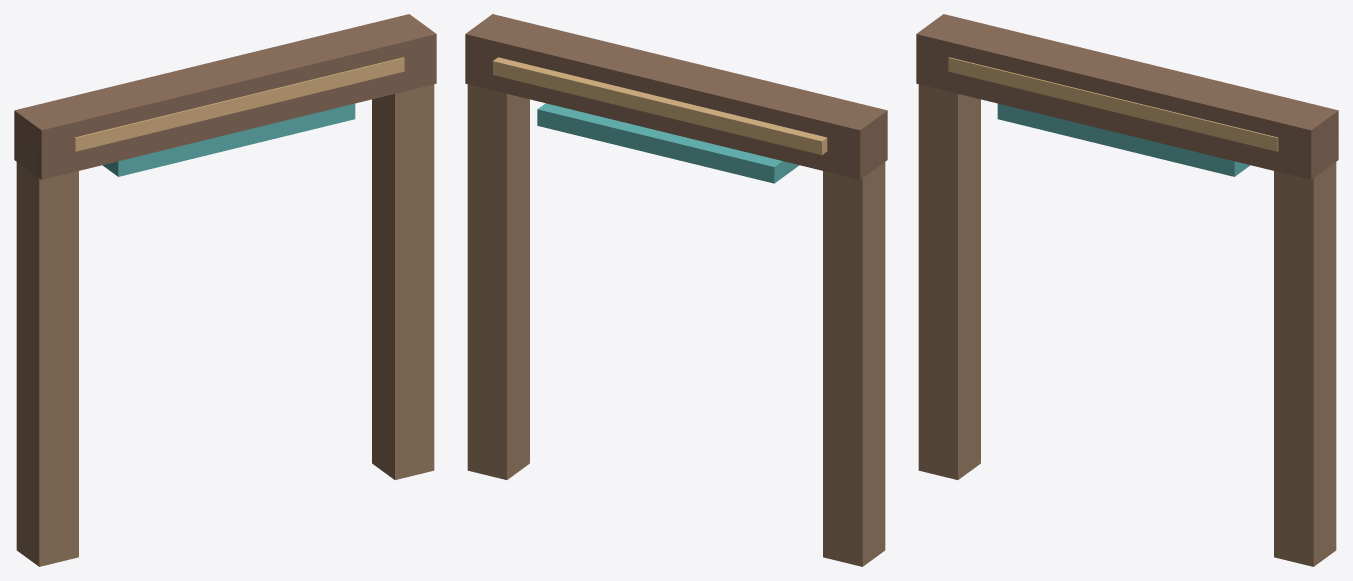
Rendered from display-bay-centered.glb.
3 views of the same model, side by side, from view 1: azimuth 30°, elevation 25°; view 2: azimuth 150°, elevation 25°; view 3: azimuth 330°, elevation 25° (orthographic).
Visible parts, largest first — view 1: world; view 2: world; view 3: world.
Part boxes in pixels (box(x1,y1,x2,y2)): world: box(14, 14, 436, 566); world: box(465, 14, 887, 566); world: box(916, 14, 1338, 566).
Size of the model in its own units: 3 by 3.18 by 0.46.
